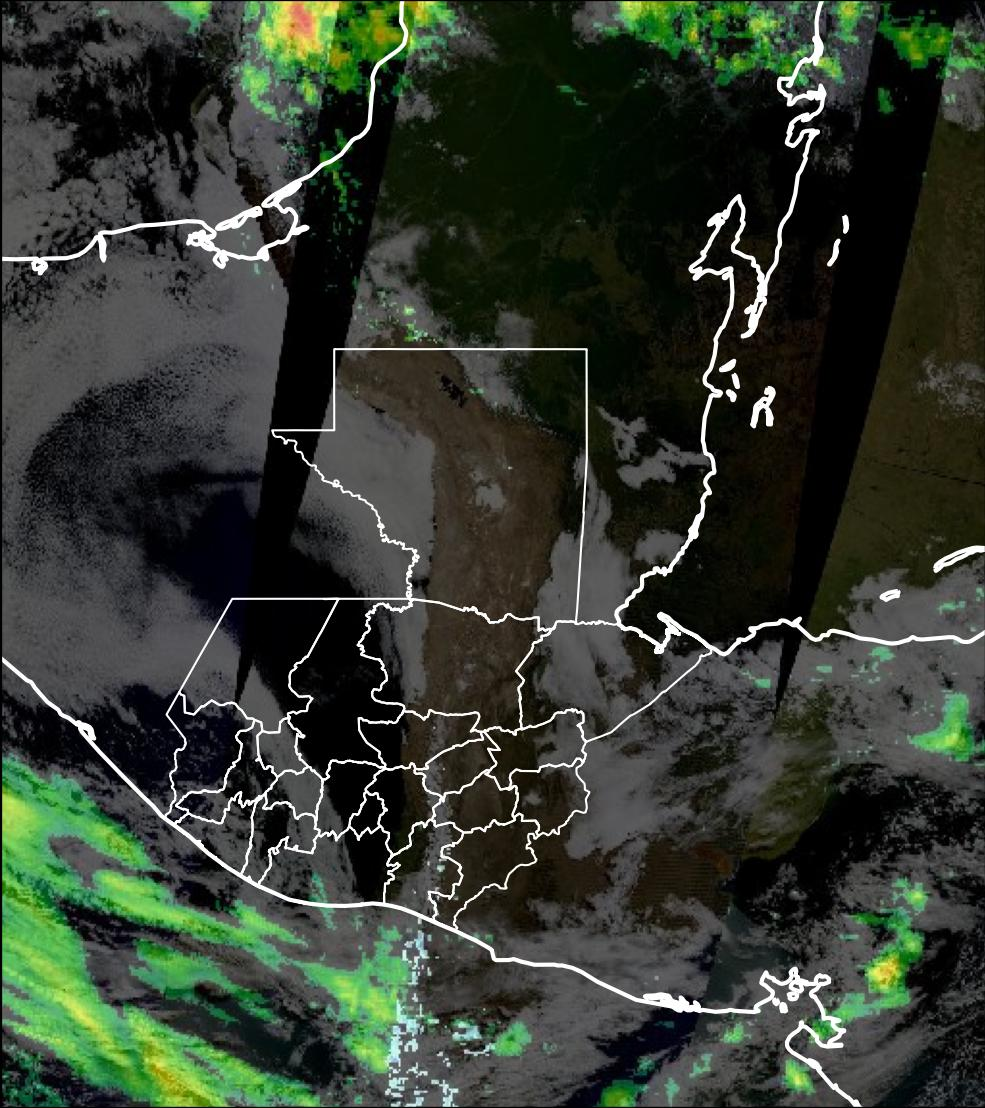precipitacion: (242, 1, 340, 76)
